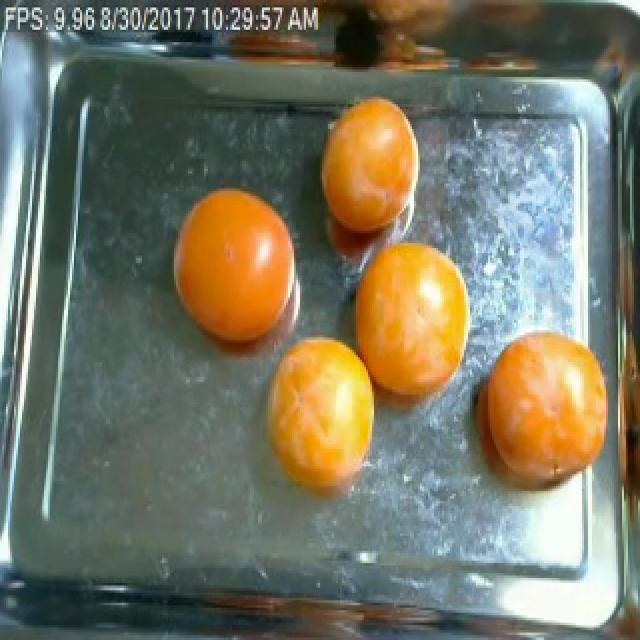Fruit: (456, 312, 610, 521), (250, 317, 388, 521), (336, 223, 474, 427), (160, 173, 300, 370), (304, 82, 434, 255)
